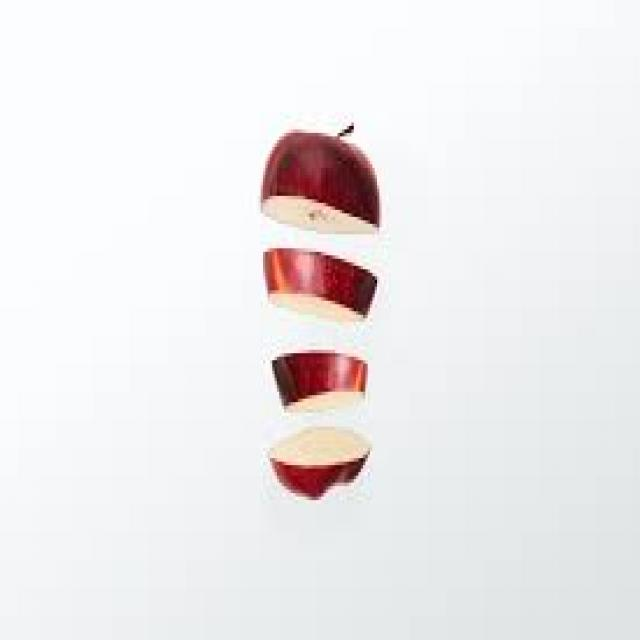Apple: (262, 124, 383, 240), (260, 245, 378, 326), (269, 424, 370, 496), (268, 350, 372, 416)
